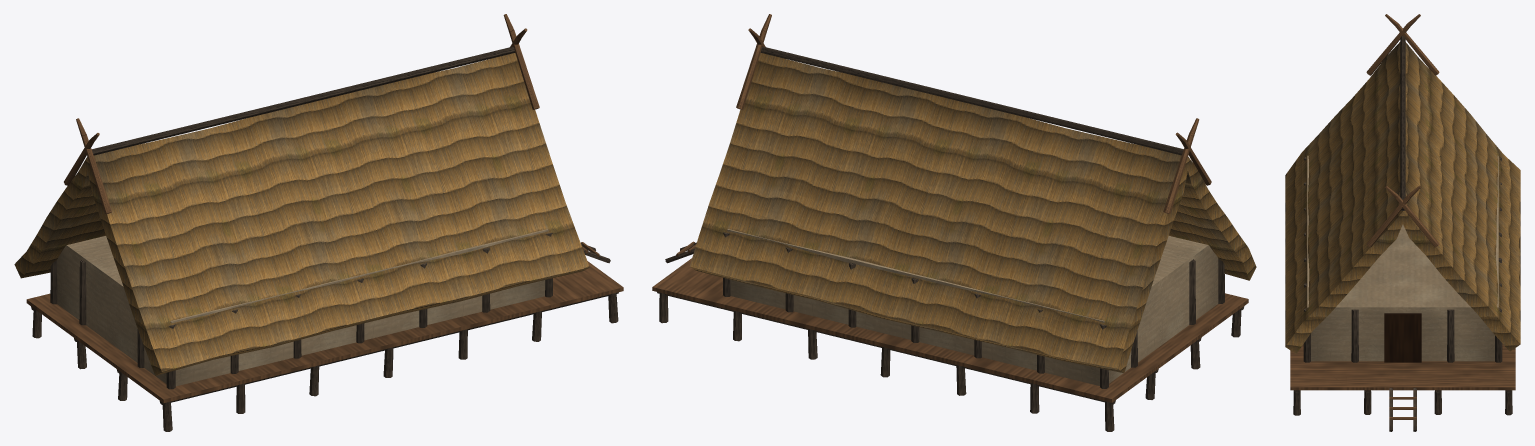
The model's file is casa_impalcato_media.glb.
The picture shows the model from 3 angles, left to right: view 1: azimuth 30°, elevation 25°; view 2: azimuth 150°, elevation 25°; view 3: azimuth 270°, elevation 25°; orthographic projection. The views are drawn at different scales.
Parts seen in each view (by area): view 1: casa_impalcato_media; view 2: casa_impalcato_media; view 3: casa_impalcato_media.
Boxes of the visible parts, x1,y1,x2,y2 form: casa_impalcato_media: [14, 14, 623, 431]; casa_impalcato_media: [652, 14, 1256, 431]; casa_impalcato_media: [1285, 14, 1520, 431].
Bounding box in the file's own units: 14.41 × 6.96 × 6.9.
Materials: 5 (5 with a texture image).
